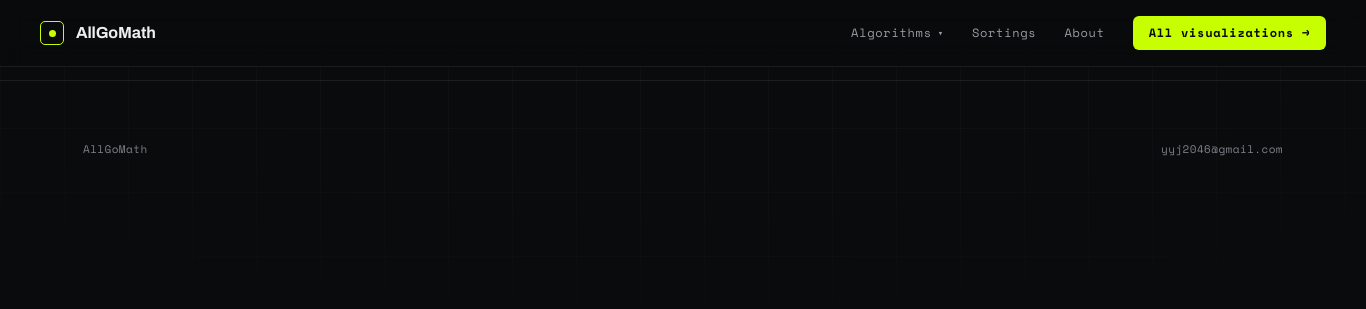
MainLayout detail header › opens dropdown with all ALGOS entries numbered by their landing idx
Click the button with class "algotrigger" at (898, 33), box [851,24,944,42]
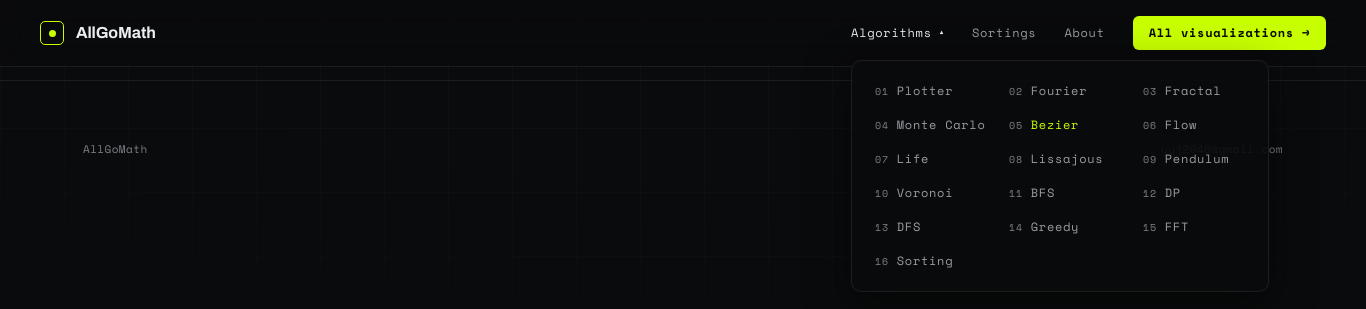
Expected: the link "01 Plotter" is shown, [875,82,953,99]
Expected: the link "02 Fourier" is shown, [1009,82,1087,99]
Expected: the link "03 Fractal" is shown, [1143,82,1221,99]
